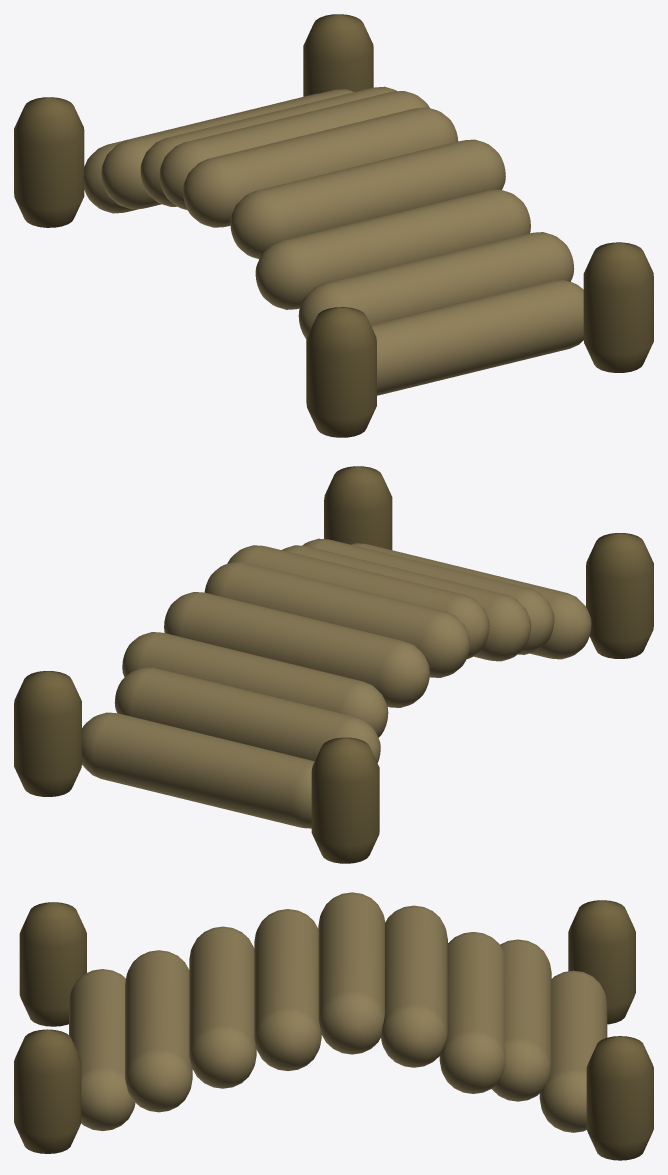
The model's file is Bridge Ver3.fbx.
3 renders of one model, top to bottom at view 1: azimuth 30°, elevation 25°; view 2: azimuth 150°, elevation 25°; view 3: azimuth 270°, elevation 25°, orthographic. The views are drawn at different scales.
Parts seen in each view (by area): view 1: Log8; view 2: Log8; view 3: Log8.
Part boxes in pixels (bbox=[...]): Log8: bbox=[14, 14, 653, 437]; Log8: bbox=[14, 466, 653, 863]; Log8: bbox=[14, 892, 653, 1160].
Bounding box in the file's own units: 822 × 334 × 1328.
